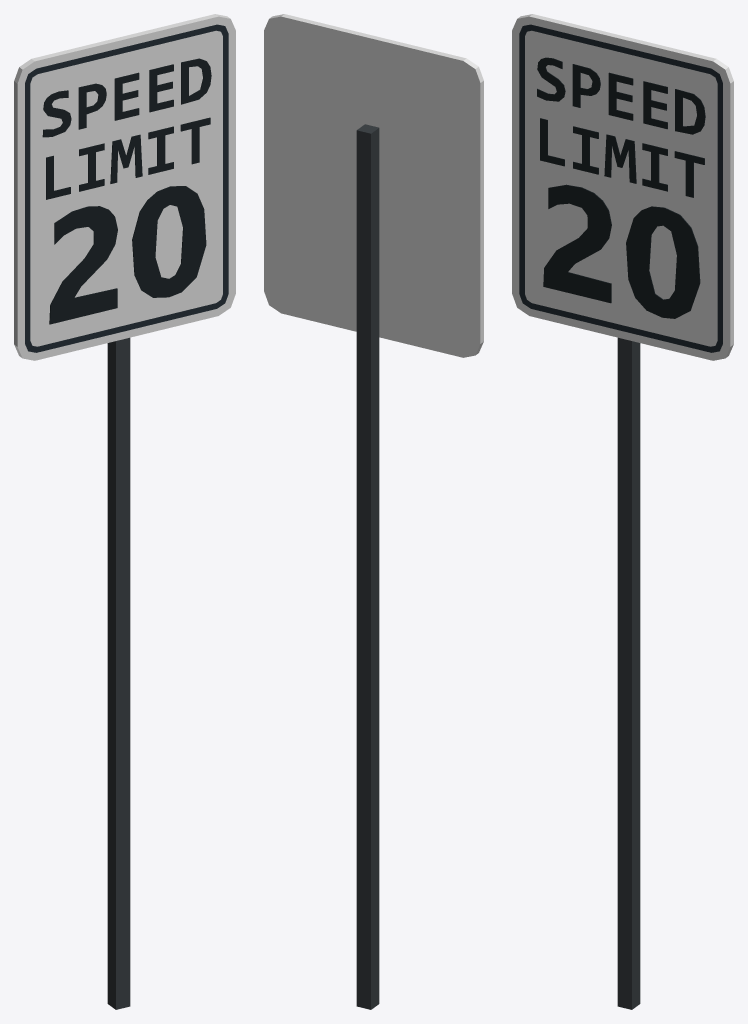
File: SM_FloorProps_RoadSign_02.fbx
The picture shows the model from 3 angles, left to right: view 1: azimuth 30°, elevation 25°; view 2: azimuth 150°, elevation 25°; view 3: azimuth 330°, elevation 25°; orthographic projection.
Visible parts, largest first — view 1: SM_FloorProps_RoadSign_02; view 2: SM_FloorProps_RoadSign_02; view 3: SM_FloorProps_RoadSign_02.
Boxes of the visible parts, left/top/right/bottom form: SM_FloorProps_RoadSign_02: left=14, top=14, right=235, bottom=1009; SM_FloorProps_RoadSign_02: left=264, top=14, right=483, bottom=1009; SM_FloorProps_RoadSign_02: left=512, top=14, right=733, bottom=1009.
Bounding box in the file's own units: 0.6461 × 2.75 × 0.0637.
